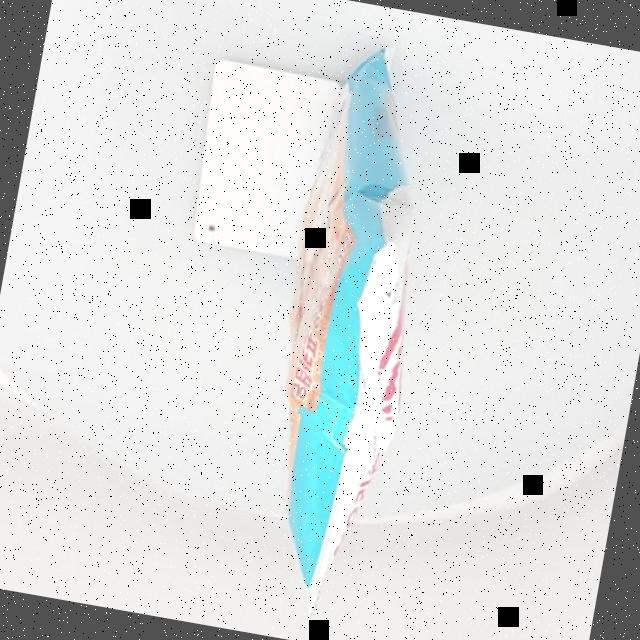snack_bag: (197, 17, 501, 640)
